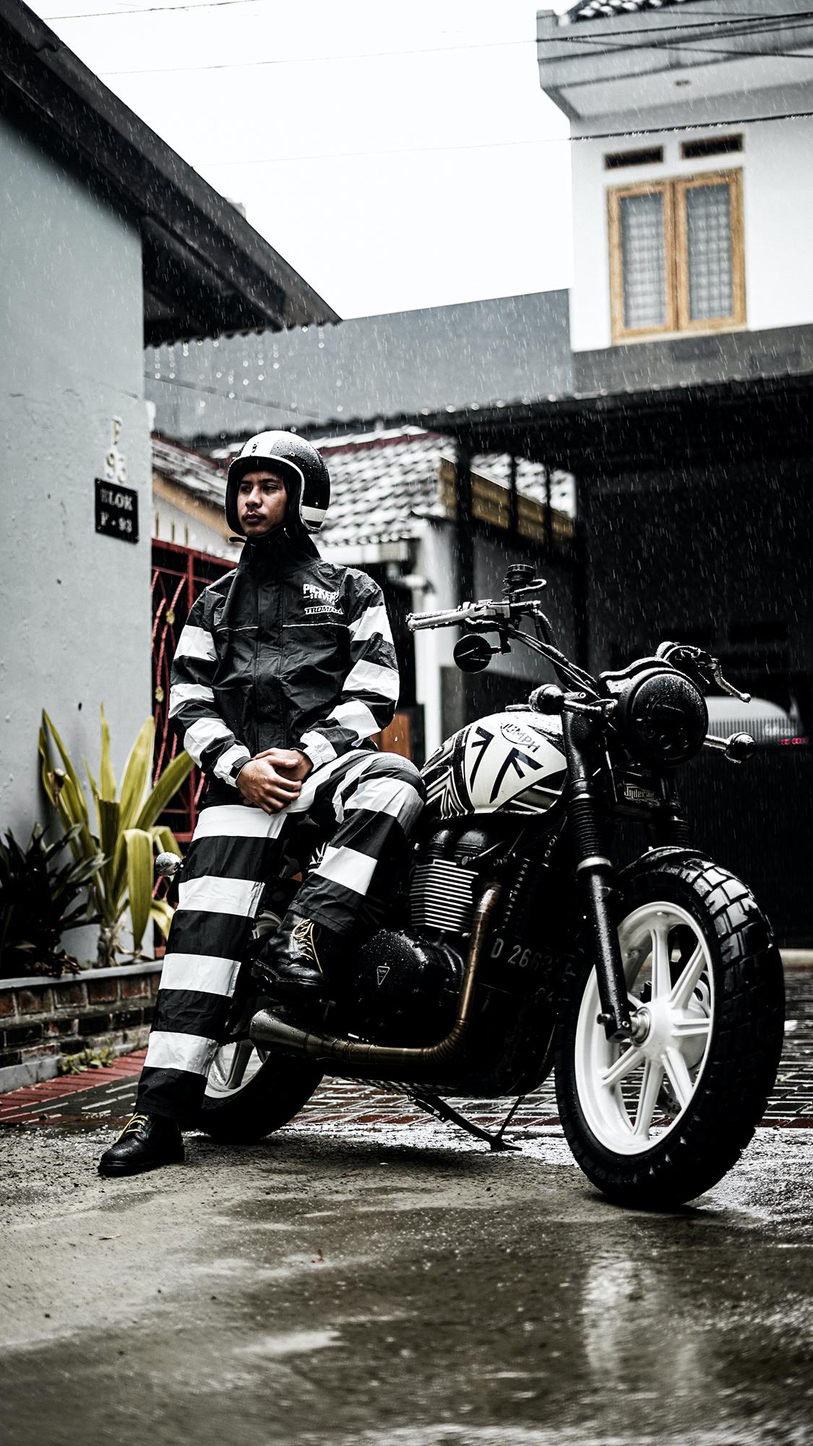helmet: (225, 429, 331, 549)
